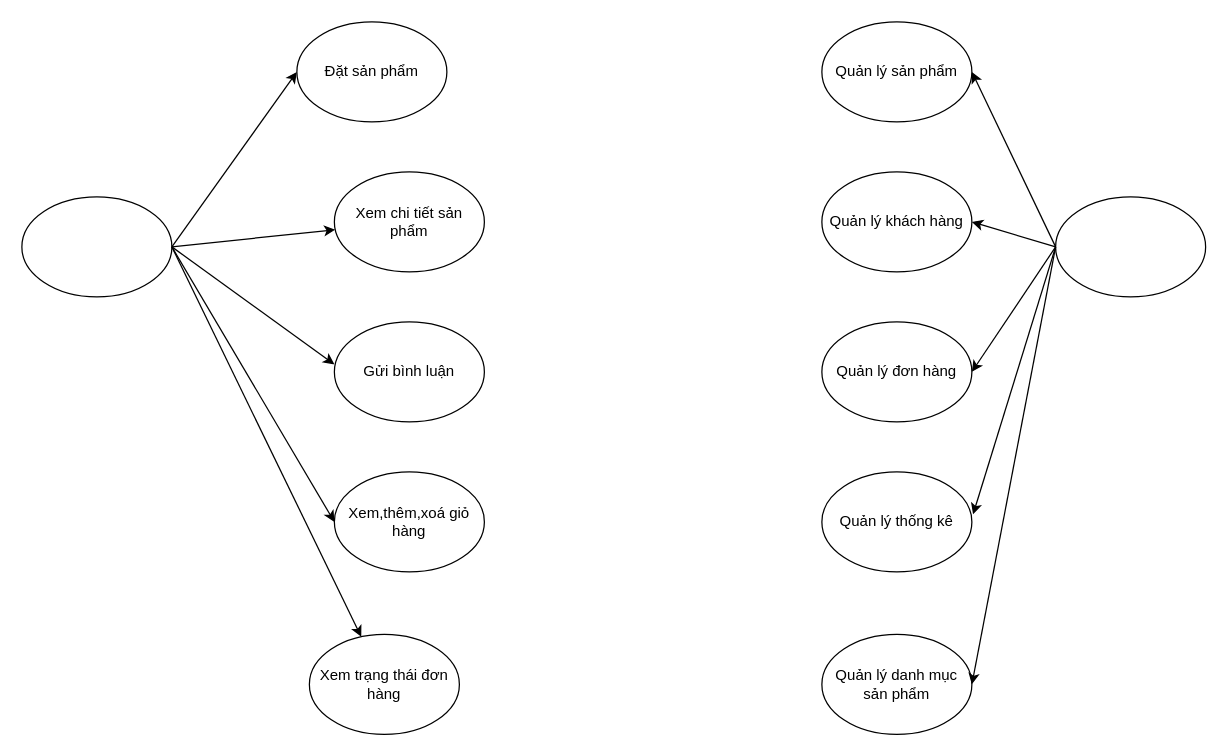
The diagram is 1228 pixels wide and 756 high, and some of its shapes have lost their labels. The shapes that lost their labels are listed below. From the top down, each one's centre as x and y in pixels, then its label:
At point (96, 246): "Khách hàng".
At point (1130, 246): "admin".
